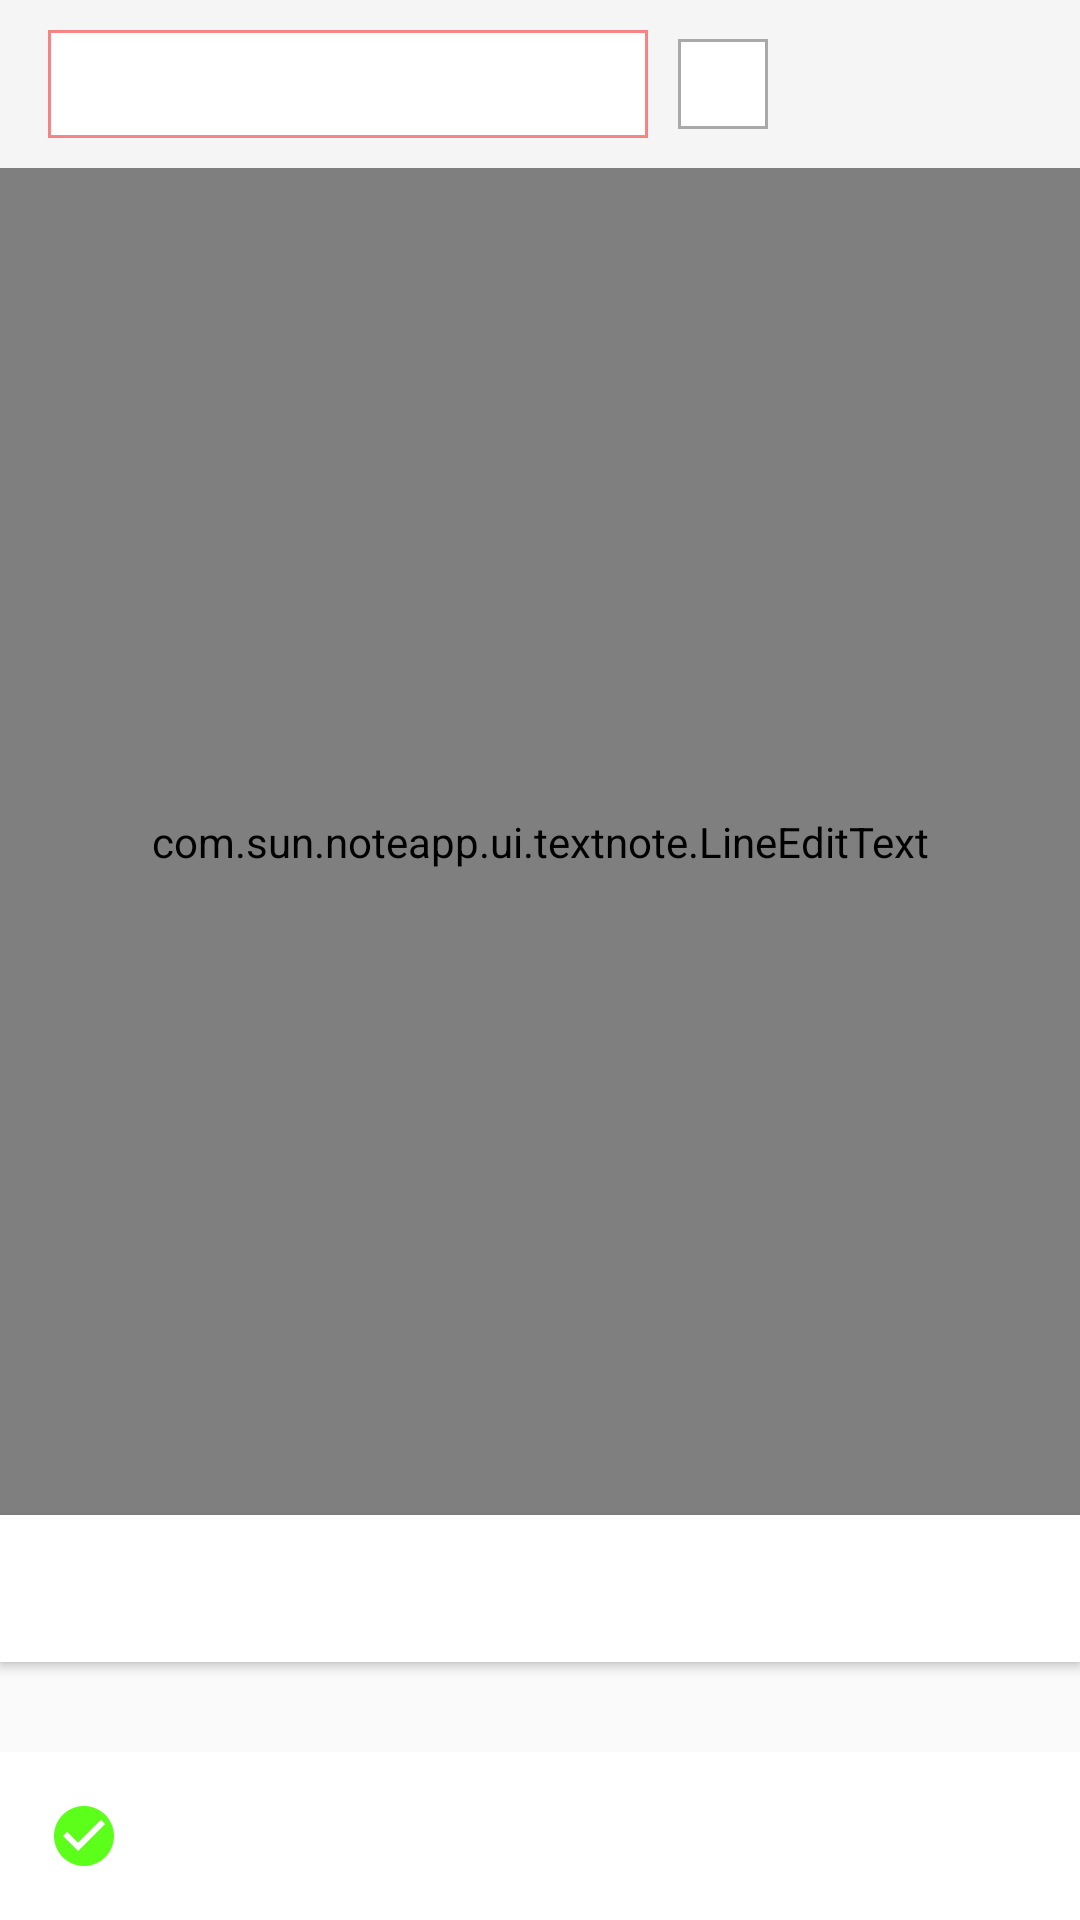

Named icons in this screenshot (1080*1920) and their bounding boxes, (x1,y1,x2,y2):
check circle: (54,1806,114,1866)
